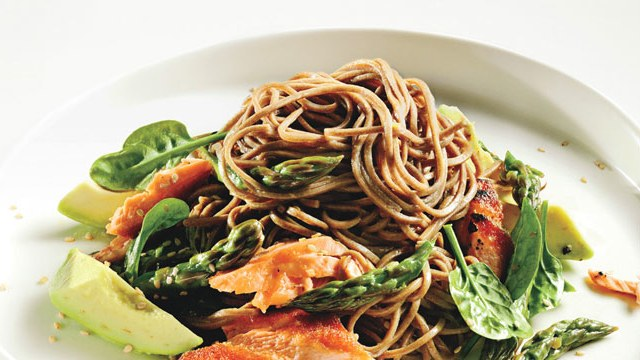Soba: (174, 57, 514, 351)
